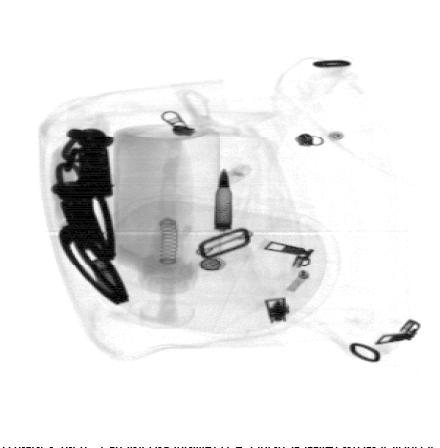Bullet: (214, 168, 232, 230)
HandCuffs: (52, 126, 135, 304)
